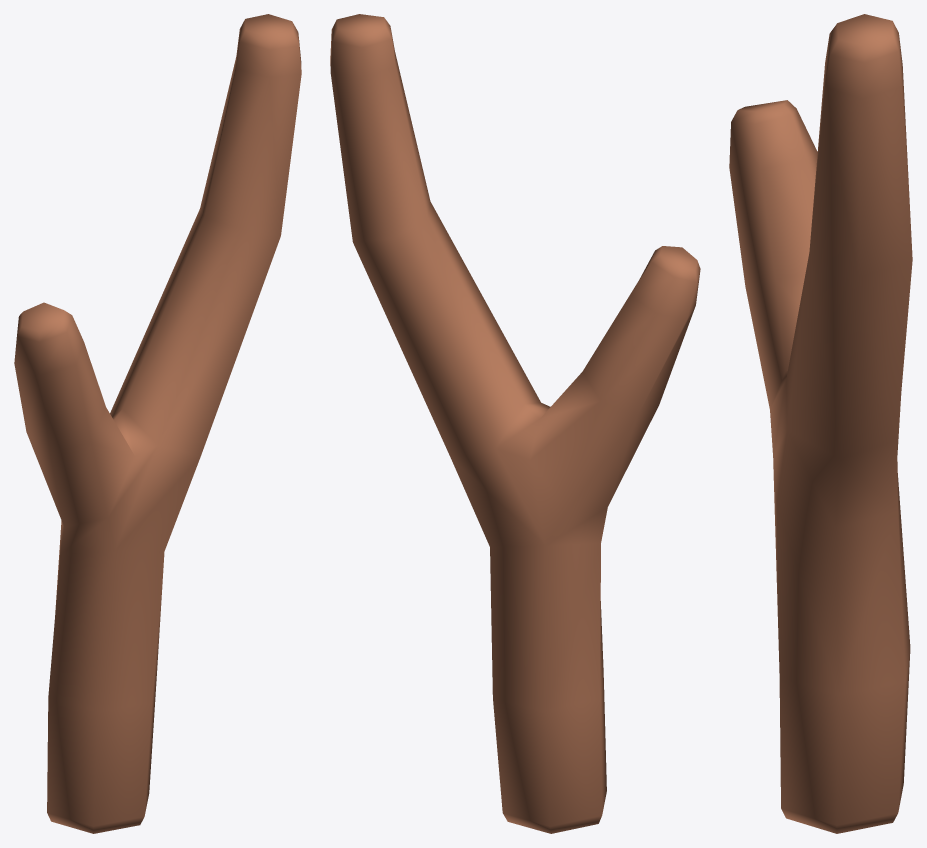
The model's file is Tree_Btm_B_03_LOD2.gltf.
3 views of the same model, side by side, from view 1: azimuth 30°, elevation 25°; view 2: azimuth 150°, elevation 25°; view 3: azimuth 270°, elevation 25° (orthographic). The views are drawn at different scales.
Visible parts, largest first — view 1: Tree_Btm_B_03_LOD2_Cylinder.675; view 2: Tree_Btm_B_03_LOD2_Cylinder.675; view 3: Tree_Btm_B_03_LOD2_Cylinder.675.
Part boxes in pixels (x1,y1,x2,y2): Tree_Btm_B_03_LOD2_Cylinder.675: [14, 14, 301, 833]; Tree_Btm_B_03_LOD2_Cylinder.675: [330, 14, 700, 833]; Tree_Btm_B_03_LOD2_Cylinder.675: [729, 14, 912, 833].
Size of the model in its own units: 3.48 by 7.69 by 1.43.
Materials: 1 (1 with a texture image).
